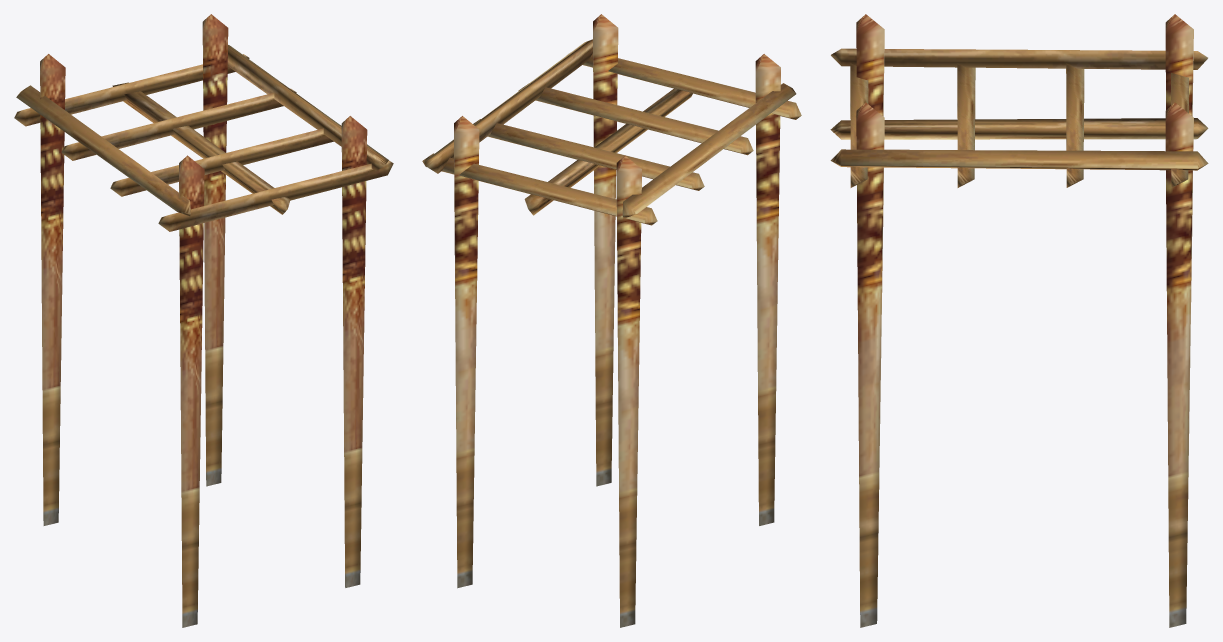
Rendered from funeralpyre01.obj.
3 views of the same model, side by side, from view 1: azimuth 30°, elevation 25°; view 2: azimuth 150°, elevation 25°; view 3: azimuth 270°, elevation 25° (orthographic). The views are drawn at different scales.
Visible parts, largest first — view 1: funeralpyre01; view 2: funeralpyre01; view 3: funeralpyre01.
Boxes of the visible parts, left/top/right/bottom form: funeralpyre01: left=14, top=14, right=393, bottom=627; funeralpyre01: left=422, top=14, right=801, bottom=627; funeralpyre01: left=830, top=14, right=1208, bottom=627.
Bounding box in the file's own units: 2.58 × 4.9 × 3.22.
1 material, 1 textured.
